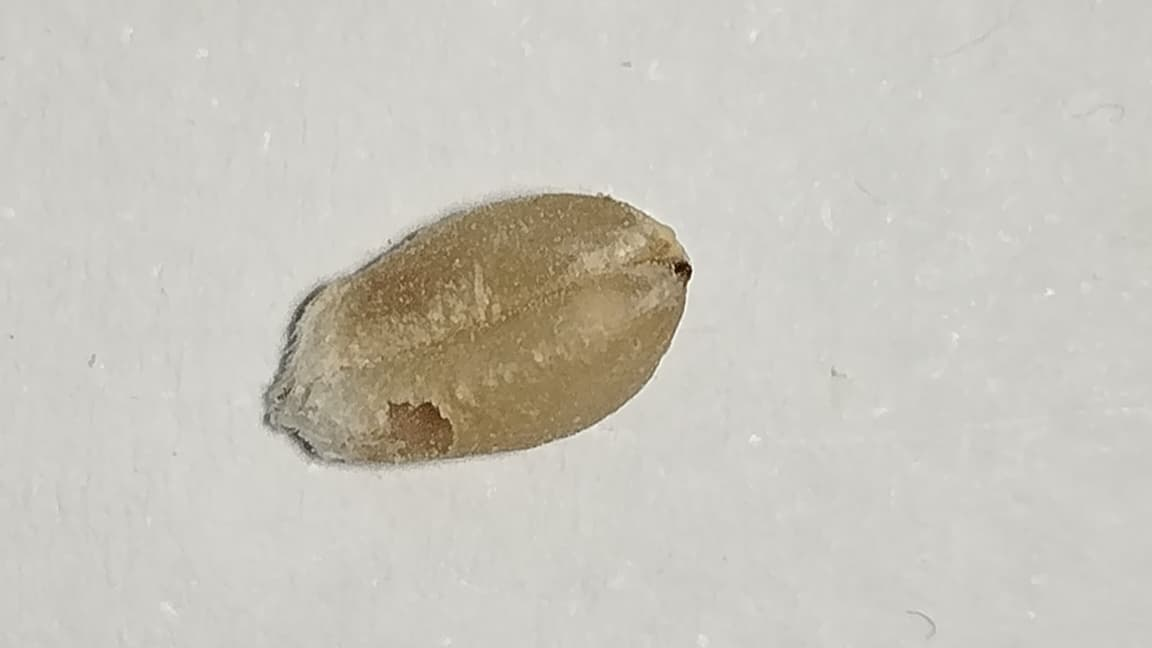damage: (278, 195, 690, 462)
insectdamage: (376, 387, 490, 463)
